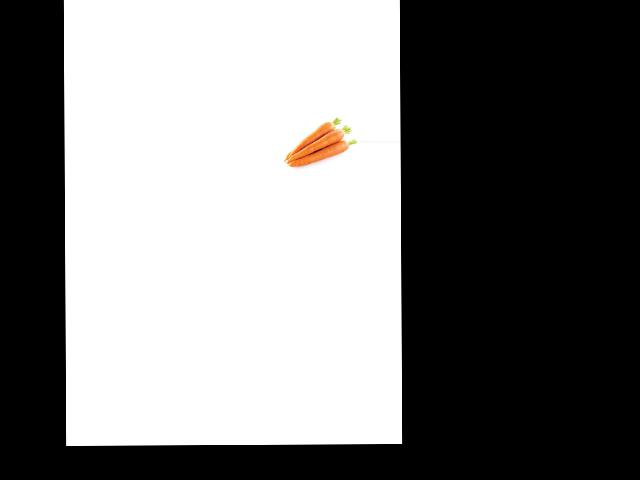carrot: (293, 140, 360, 178)
